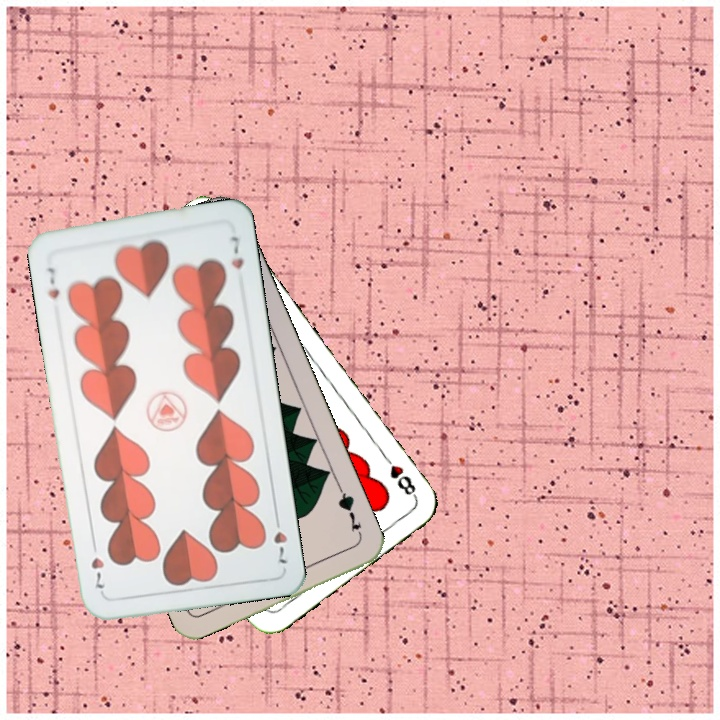G7: (333, 485, 365, 541)
H7: (269, 511, 290, 568), (44, 263, 62, 302)
H8: (378, 450, 420, 501)
